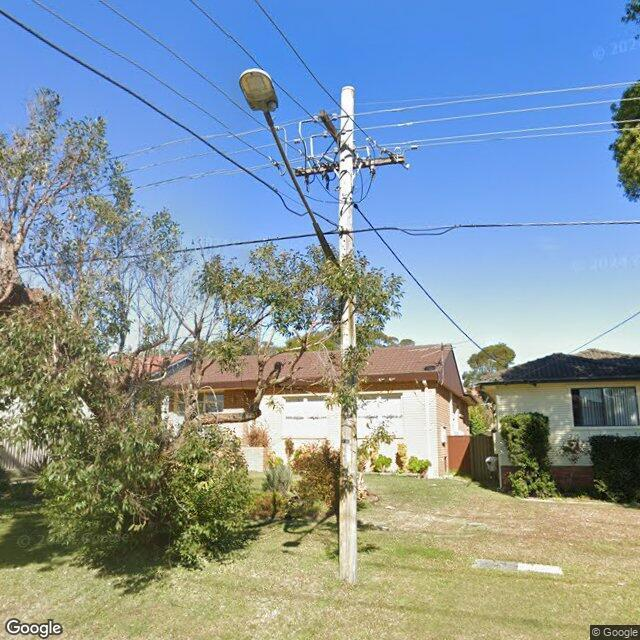crossarm: (293, 155, 405, 177), (317, 110, 341, 148)
streetlight: (240, 69, 342, 271)
timber-pole: (338, 86, 357, 584)
